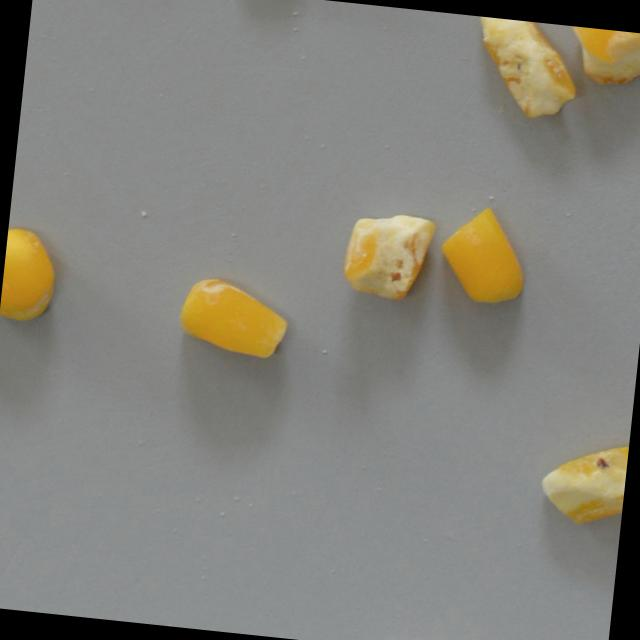estandar: (432, 202, 541, 310), (0, 225, 61, 322), (564, 24, 640, 87)
pelicula: (171, 271, 296, 362), (339, 207, 436, 304)
punto_negro: (464, 14, 585, 127), (535, 431, 629, 533)
